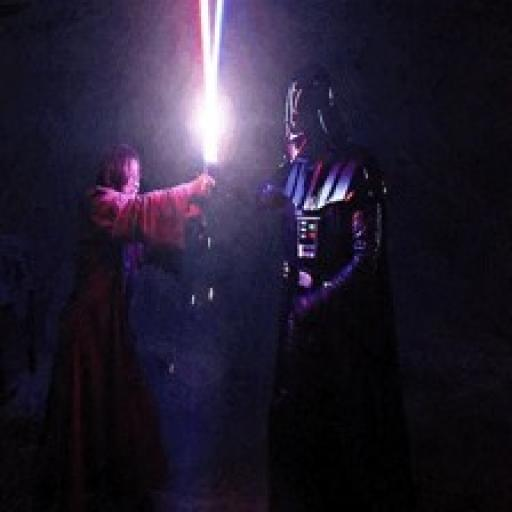human: (238, 61, 414, 495), (30, 143, 217, 512)
lightsaber: (197, 0, 224, 192)
sith saber: (198, 0, 229, 232)
